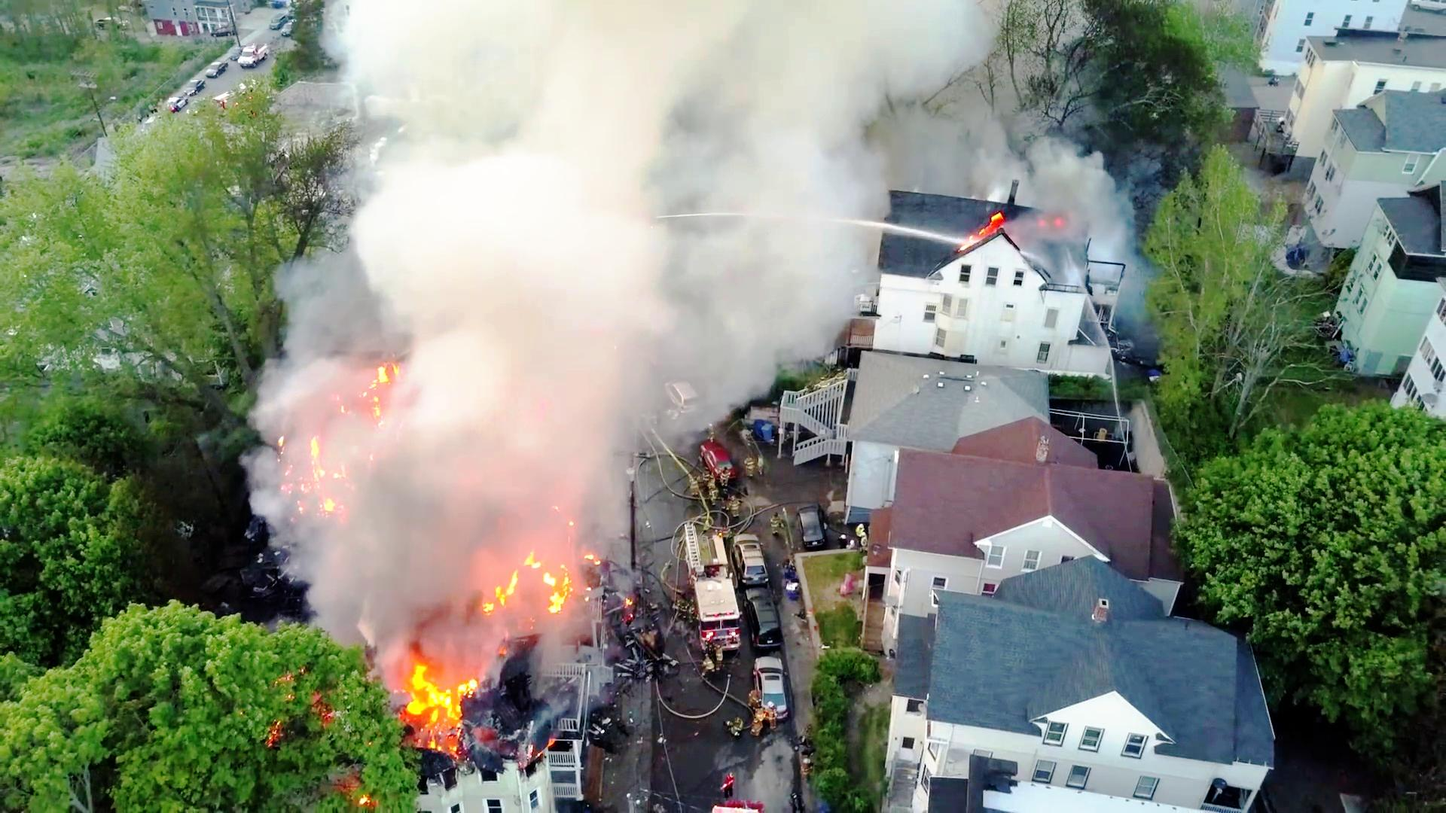fire: (390, 659, 457, 766), (480, 537, 564, 621), (329, 369, 415, 440)
smoke: (464, 30, 715, 333)
